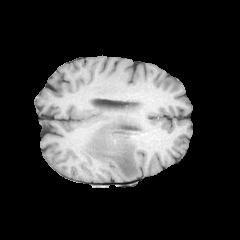glioma: (81, 121, 139, 178)
